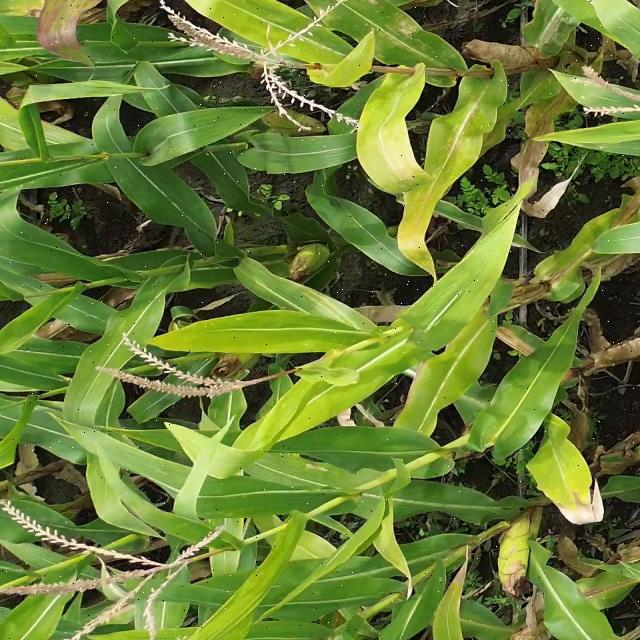gray-leaf-spot: (299, 286, 353, 321), (520, 66, 560, 100)
northern-leaf-blight: (551, 234, 620, 290), (574, 563, 640, 605), (528, 3, 574, 51)
southern-leaf-blight: (369, 2, 438, 63), (439, 108, 482, 164)
